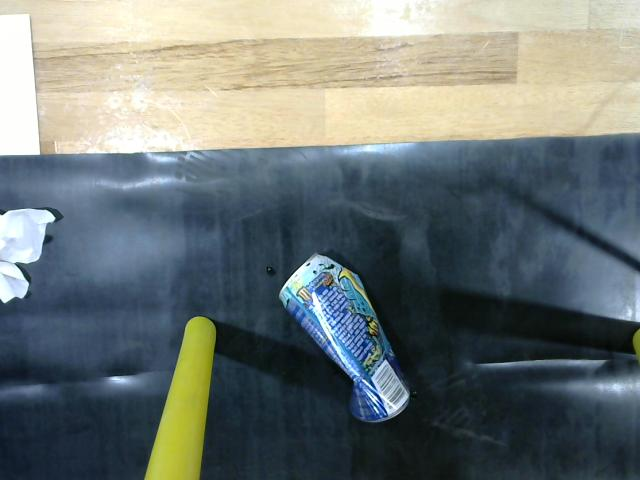can: (273, 249, 415, 425)
